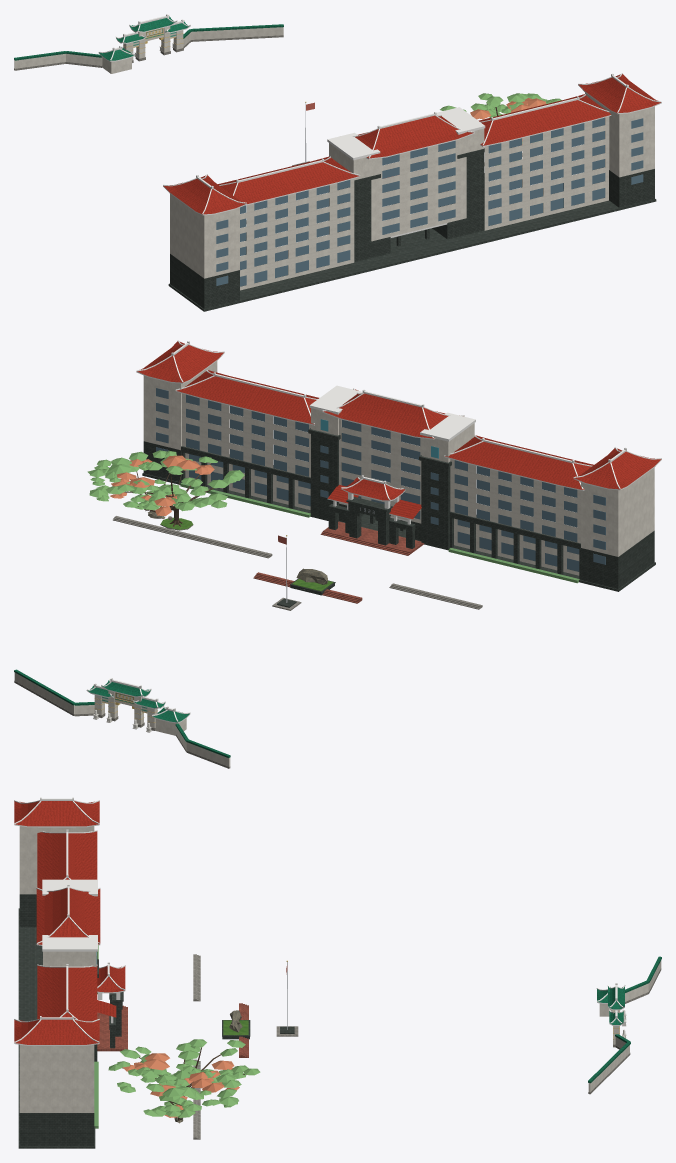
The model's file is d01_axis_forecourt_lod1.glb.
3 views of the same model, one above another, from view 1: azimuth 30°, elevation 25°; view 2: azimuth 150°, elevation 25°; view 3: azimuth 270°, elevation 25° (orthographic). The views are drawn at different scales.
Visible parts, largest first — view 1: yihao_teaching_block_1.001, beimen_north_gate.001, centenary_terminalia_hero.001; view 2: yihao_teaching_block_1.001, centenary_terminalia_hero.001, beimen_north_gate.001, forecourt_taihu_landmark.001; view 3: yihao_teaching_block_1.001, centenary_terminalia_hero.001, beimen_north_gate.001, forecourt_taihu_landmark.001.
Part boxes in pixels (box(x1,y1,x2,y2)): yihao_teaching_block_1.001: box(163, 73, 661, 311); beimen_north_gate.001: box(14, 14, 283, 73); centenary_terminalia_hero.001: box(440, 93, 561, 165); yihao_teaching_block_1.001: box(136, 340, 661, 591); centenary_terminalia_hero.001: box(87, 450, 244, 530); beimen_north_gate.001: box(14, 669, 230, 768); forecourt_taihu_landmark.001: box(113, 482, 579, 610); yihao_teaching_block_1.001: box(14, 797, 127, 1148); centenary_terminalia_hero.001: box(108, 1039, 260, 1123); beimen_north_gate.001: box(588, 956, 661, 1094); forecourt_taihu_landmark.001: box(94, 945, 298, 1139).
Size of the model in its own units: 118 by 29.69 by 132.
24 materials, 11 textured.
